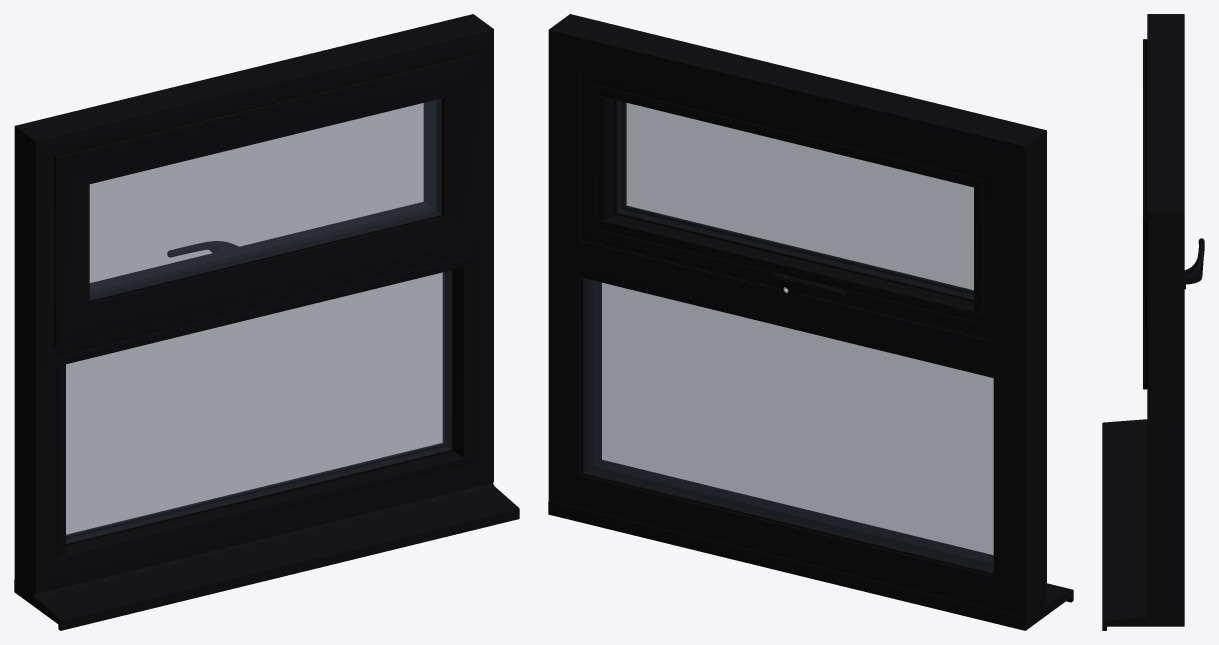
Rendered from aluminium-windows.glb.
The picture shows the model from 3 angles, left to right: view 1: azimuth 30°, elevation 25°; view 2: azimuth 150°, elevation 25°; view 3: azimuth 270°, elevation 25°; orthographic projection. The views are drawn at different scales.
Visible parts, largest first — view 1: Frame, object 3, Gasket 0; view 2: Frame, object 3, Gasket 0, Colour; view 3: Frame, Gasket 0, Colour.
Part boxes in pixels (bbox=[...]): Frame: bbox=[14, 14, 519, 630]; object 3: bbox=[66, 99, 451, 543]; Gasket 0: bbox=[54, 53, 476, 545]; Frame: bbox=[548, 14, 1073, 630]; object 3: bbox=[583, 101, 993, 572]; Gasket 0: bbox=[581, 71, 993, 575]; Colour: bbox=[770, 273, 846, 298]; Frame: bbox=[1102, 14, 1184, 630]; Gasket 0: bbox=[1145, 39, 1147, 389]; Colour: bbox=[1184, 238, 1204, 289].
Bounding box in the file's own units: 900 × 884 × 196.
